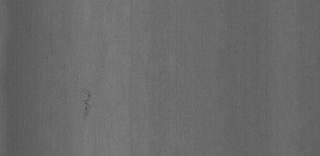water spot: (78, 84, 100, 122)
